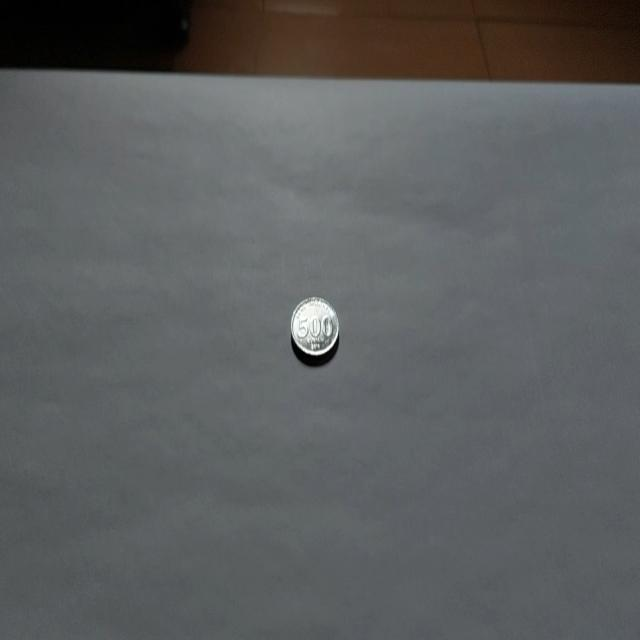lima ratus rupiah: (289, 294, 339, 362)
